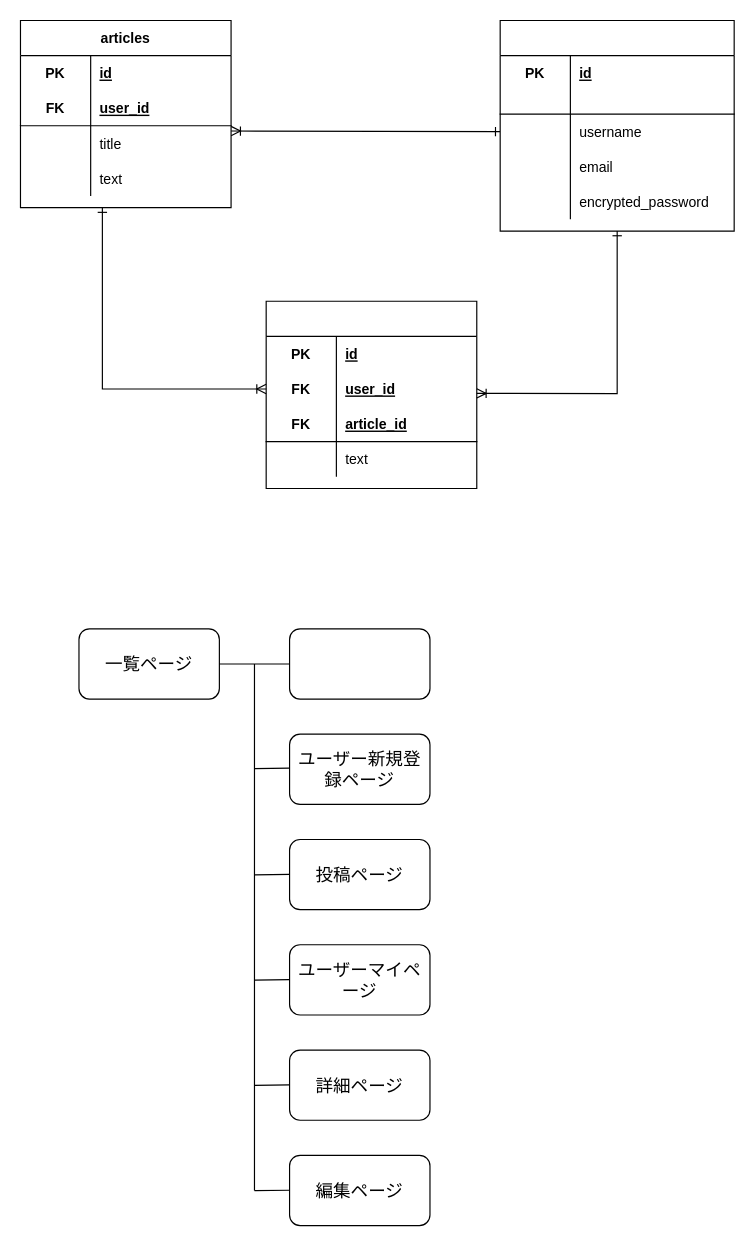
Some shapes in this 755 by 1246 pixel diagram are drawn without their labels. Here are the shapes that lost their labels. From the top down, the box of each, then its label:
(499, 19, 734, 231): users
(265, 300, 477, 488): comments
(288, 628, 430, 699): ログインページ
